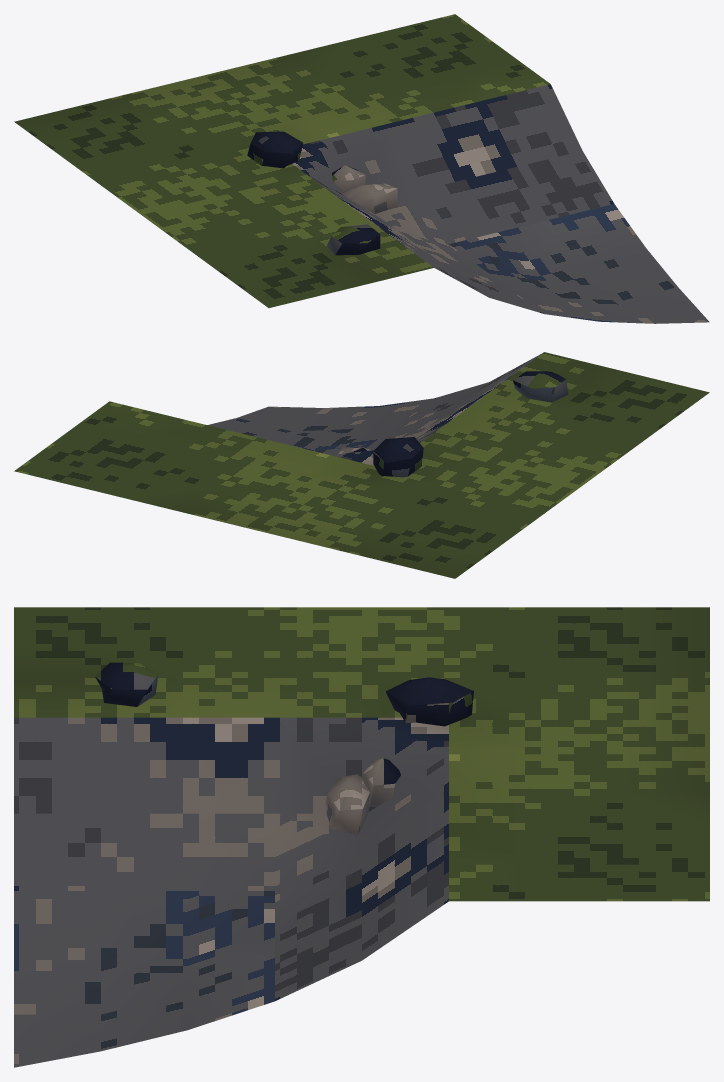
Rendered from lake.shore__corner_in.glb.
The picture shows the model from 3 angles, top to bottom: view 1: azimuth 30°, elevation 25°; view 2: azimuth 150°, elevation 25°; view 3: azimuth 270°, elevation 25°; orthographic projection. The views are drawn at different scales.
Parts seen in each view (by area): view 1: kit_shell_bank, kit_stones; view 2: kit_shell_bank, kit_stones; view 3: kit_shell_bank, kit_stones.
Part boxes in pixels (x1=…): kit_shell_bank: x1=14, y1=14, x2=709, y2=323; kit_stones: x1=247, y1=131, x2=397, y2=255; kit_shell_bank: x1=14, y1=352, x2=709, y2=578; kit_stones: x1=338, y1=371, x2=568, y2=477; kit_shell_bank: x1=14, y1=607, x2=709, y2=1067; kit_stones: x1=95, y1=662, x2=473, y2=834.
Size of the model in its own units: 4 by 1.28 by 4.
4 materials, 4 textured.
